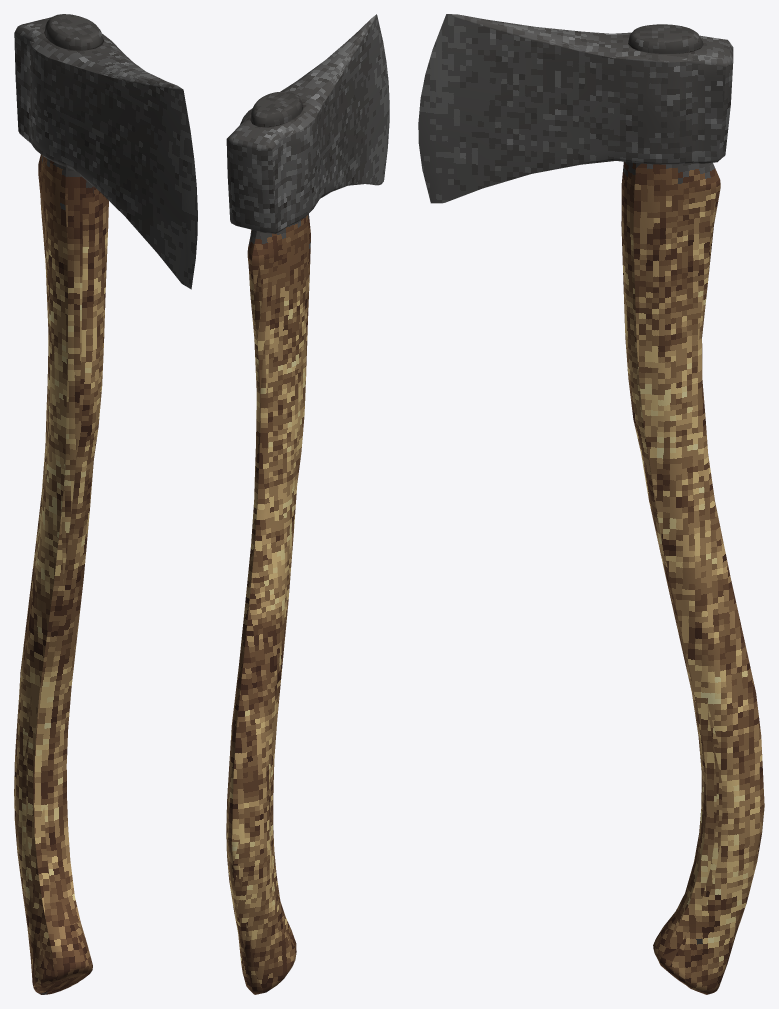
File: wooden_axe_02.glb
The picture shows the model from 3 angles, left to right: view 1: azimuth 30°, elevation 25°; view 2: azimuth 150°, elevation 25°; view 3: azimuth 270°, elevation 25°; orthographic projection. The views are drawn at different scales.
Visible parts, largest first — view 1: body; view 2: body; view 3: body.
Boxes of the visible parts, x1,y1,x2,y2 form: body: [14, 14, 197, 994]; body: [226, 14, 389, 994]; body: [418, 14, 764, 994].
Size of the model in its own units: 0.0509 by 0.7042 by 0.2257.
1 material, 1 textured.
